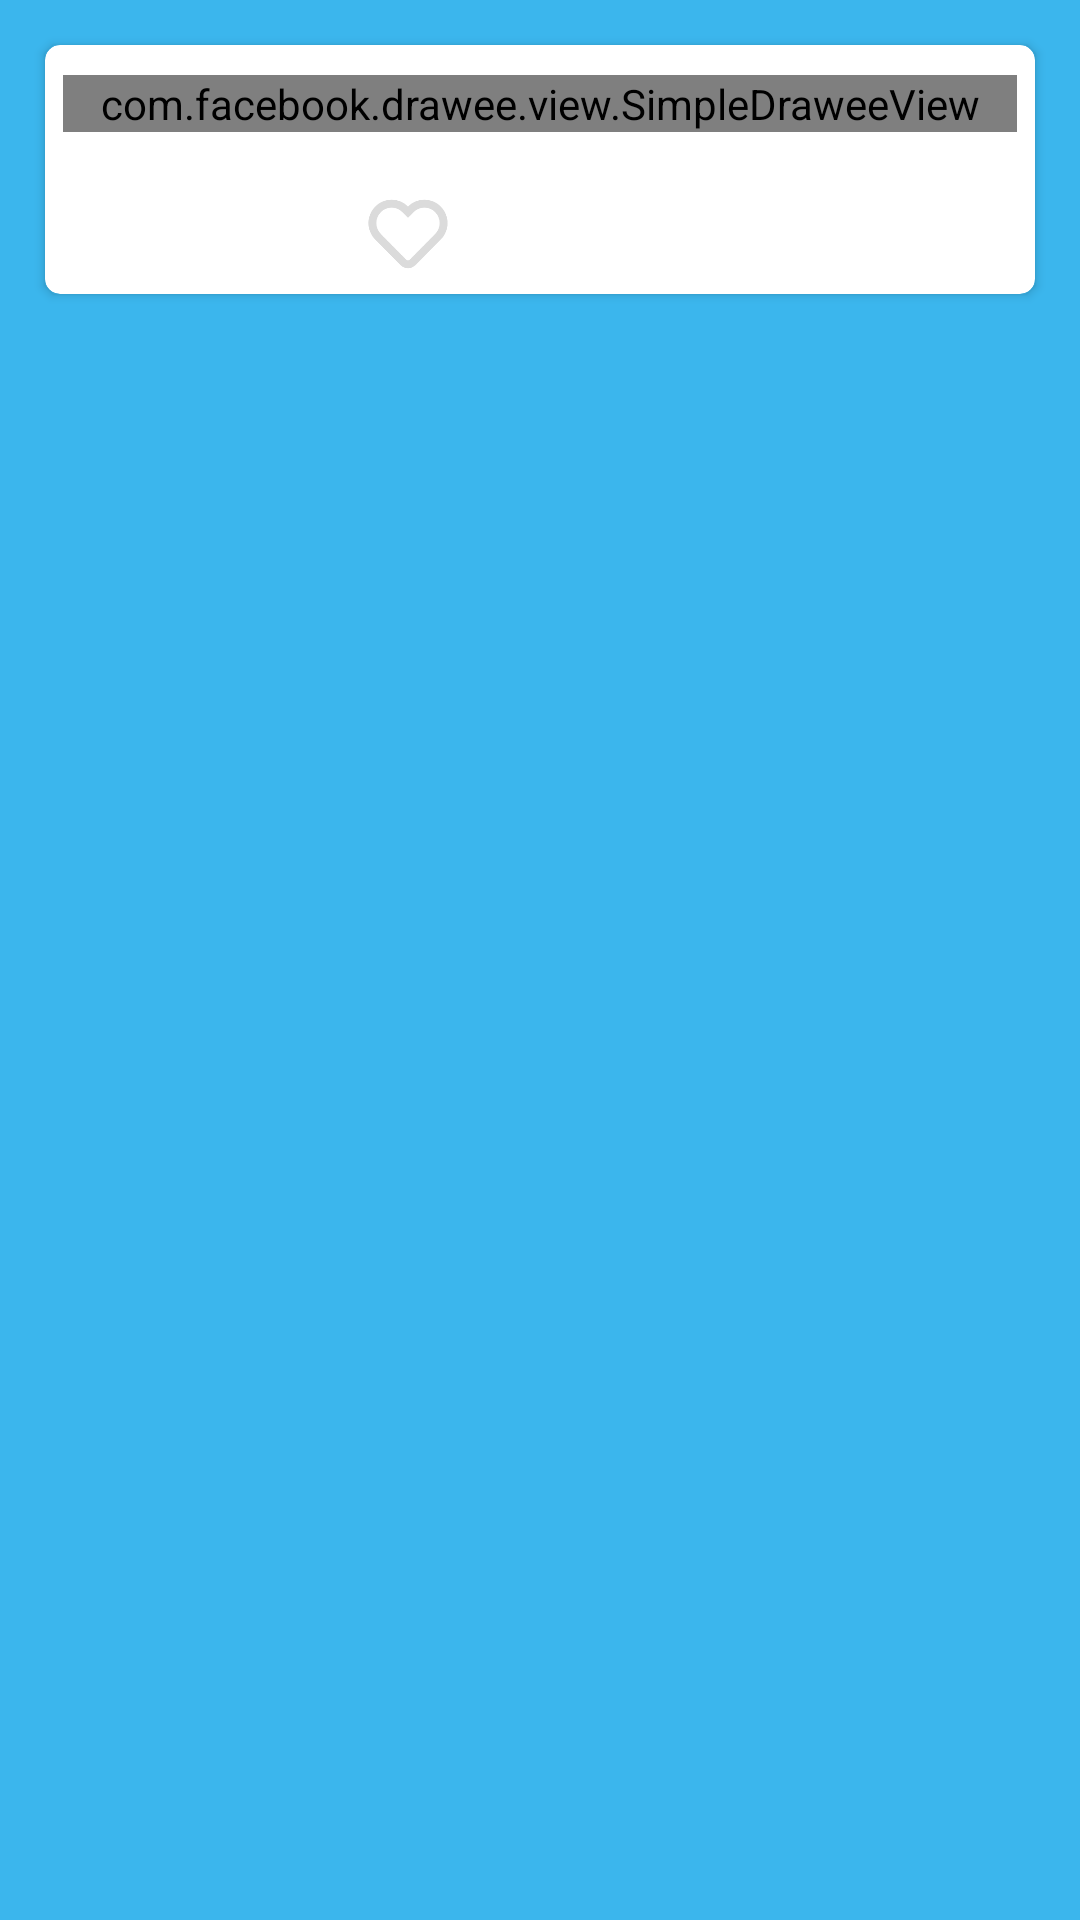

Icons on this 1080 x 1920 Android screen, each with its box as (x1, y1, x2, y2):
love: (368, 200, 447, 268)
